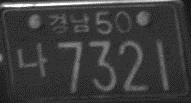0: (115, 10, 133, 35)
1: (152, 38, 173, 91)
2: (120, 39, 149, 93)
3: (88, 38, 118, 93)
5: (95, 11, 113, 36)
7: (55, 40, 84, 93)
경남_O: (48, 12, 90, 35)
나: (16, 41, 51, 79)
